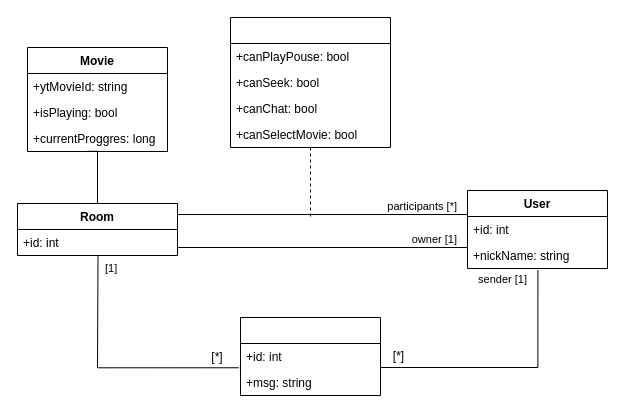
Some shapes in this 625 by 416 pixel diagram are drawn without their labels. Each missing label, with the box of its shape:
Message: (240, 316, 380, 396)
Privilages: (230, 16, 390, 148)
